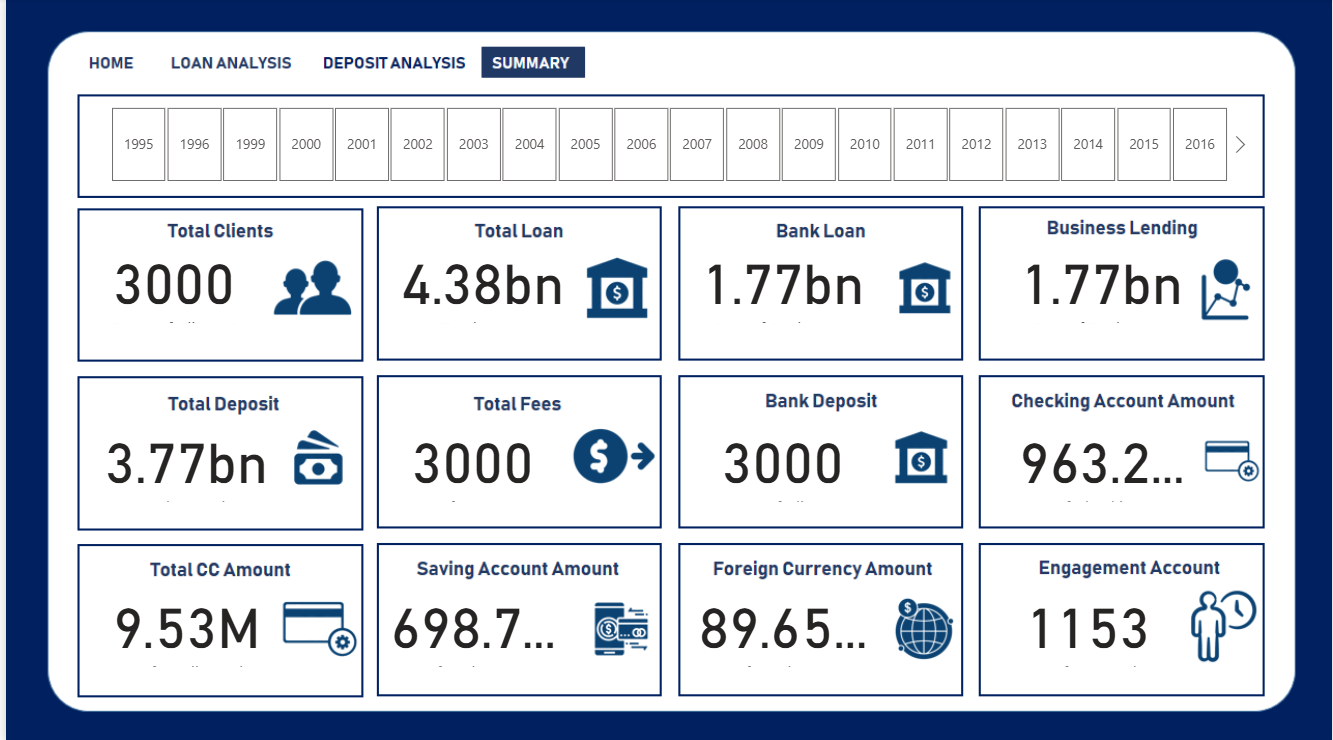

The dashboard page shown, as its layout file describes it:
{"tool":"powerbi","page":{"name":"Summary","canvas":[1280,720],"ordinal":3},"visuals":[{"type":"actionButton","box":[61.7,42.5,89.2,39.8],"z":0},{"type":"actionButton","box":[150.9,43.9,129,39.8],"z":1},{"type":"actionButton","box":[299.1,45.3,150.9,39.8],"z":2},{"type":"actionButton","box":[450.1,43.9,108.4,39.8],"z":3},{"type":"slicer","fields":{"Values":["banking-clients.joined_year"]},"box":[76.3,99.4,1126.2,85],"z":4},{"type":"card","fields":{"Values":["CountNonNull(banking-clients.Client ID)"]},"box":[76.3,241.9,172.8,76.3],"z":5},{"type":"card","fields":{"Values":["banking-clients.Total Loans"]},"box":[374.4,241.9,172.8,76.3],"z":6},{"type":"card","fields":{"Values":["banking-clients.Total Deposits"]},"box":[87.8,414.8,172.8,76.3],"z":7},{"type":"card","fields":{"Values":["Sum(banking-clients.Bank Loans)"]},"box":[663.9,241.9,172.8,76.3],"z":8},{"type":"card","fields":{"Values":["Sum(banking-clients.Bank Loans)"]},"box":[970.7,241.9,172.8,76.3],"z":9},{"type":"card","fields":{"Values":["CountNonNull(banking-clients.Client ID)"]},"box":[663.9,414.8,172.8,76.3],"z":10},{"type":"card","fields":{"Values":["CountNonNull(banking-clients.Fee Structure)"]},"box":[364.4,414.8,172.8,76.3],"z":11},{"type":"card","fields":{"Values":["Sum(banking-clients.Checking Accounts)"]},"box":[970.7,414.8,172.8,76.3],"z":12},{"type":"card","fields":{"Values":["Sum(banking-clients.Credit Card Balance)"]},"box":[87.8,574.6,172.8,76.3],"z":13},{"type":"card","fields":{"Values":["Sum(banking-clients.Foreign Currency Account)"]},"box":[663.9,574.6,172.8,76.3],"z":14},{"type":"card","fields":{"Values":["Sum(banking-clients.Saving Accounts)"]},"box":[364.4,574.6,172.8,76.3],"z":15},{"type":"card","fields":{"Values":["CountNonNull(banking-clients.Engaged Account)"]},"box":[957.7,574.6,172.8,76.3],"z":16}]}

Visuals, with their boxes in screenshot pixels (x1, y1, x2, y2), scaled from the page's 1280x720 canvas onto the 1333x740 screenshot:
actionButton: 64 44 157 85
actionButton: 157 45 291 86
actionButton: 311 47 469 87
actionButton: 469 45 582 86
slicer - banking-clients.joined_year: 79 102 1252 190
card - CountNonNull(banking-clients.Client ID): 79 249 259 327
card - banking-clients.Total Loans: 390 249 570 327
card - banking-clients.Total Deposits: 91 426 271 505
card - Sum(banking-clients.Bank Loans): 691 249 871 327
card - Sum(banking-clients.Bank Loans): 1011 249 1191 327
card - CountNonNull(banking-clients.Client ID): 691 426 871 505
card - CountNonNull(banking-clients.Fee Structure): 379 426 559 505
card - Sum(banking-clients.Checking Accounts): 1011 426 1191 505
card - Sum(banking-clients.Credit Card Balance): 91 591 271 669
card - Sum(banking-clients.Foreign Currency Account): 691 591 871 669
card - Sum(banking-clients.Saving Accounts): 379 591 559 669
card - CountNonNull(banking-clients.Engaged Account): 997 591 1177 669
